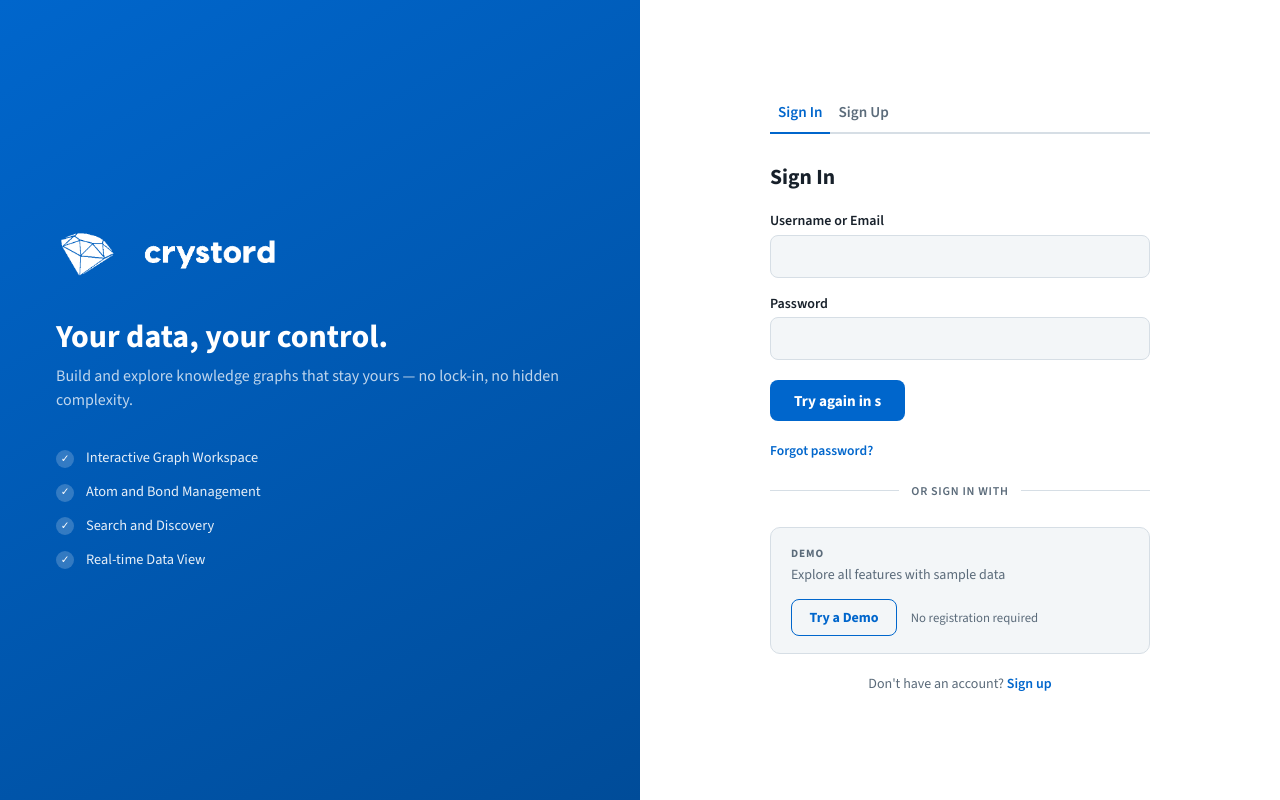
Scenario: SignInPage › switches to sign-up mode when clicking the switch link
Click the button "Sign up". click: x=1029, y=684
box: [1007,674,1052,693]
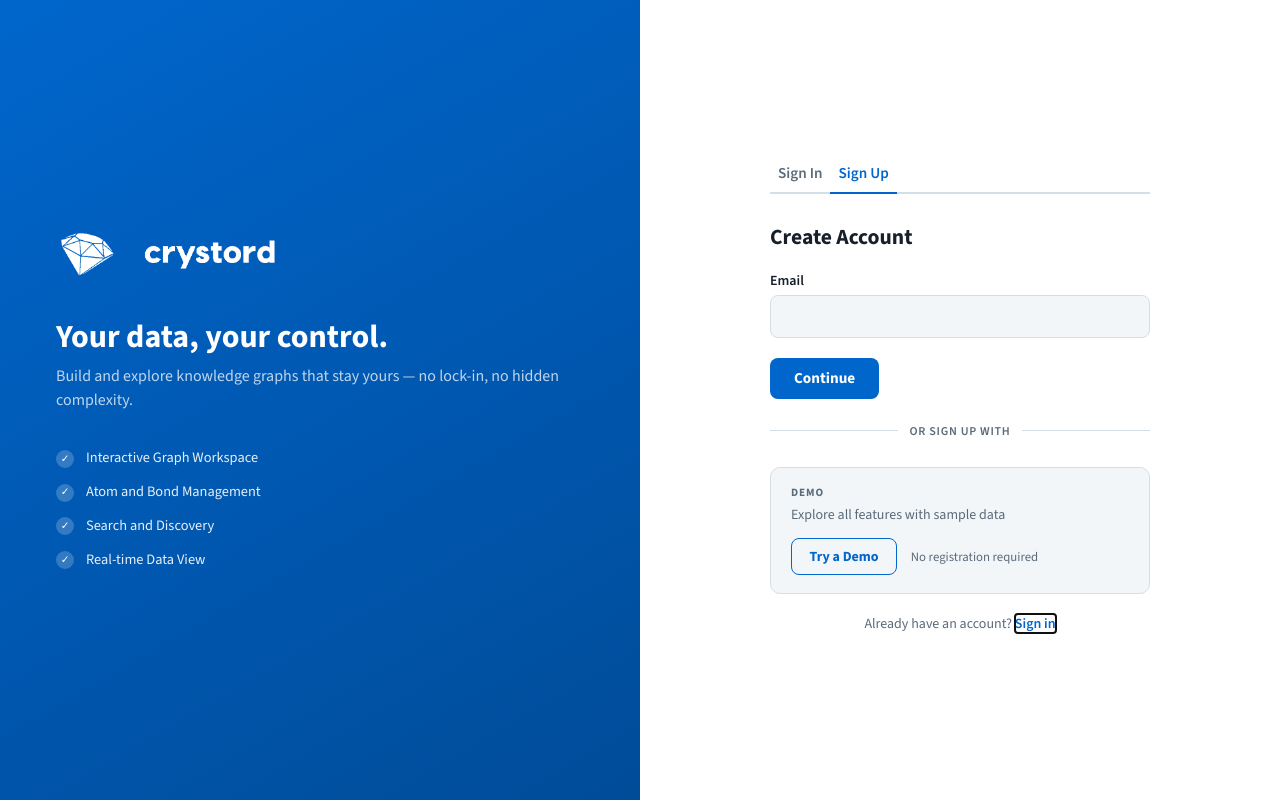
Expected: the heading "Create Account" is shown, [770,222,912,251]
